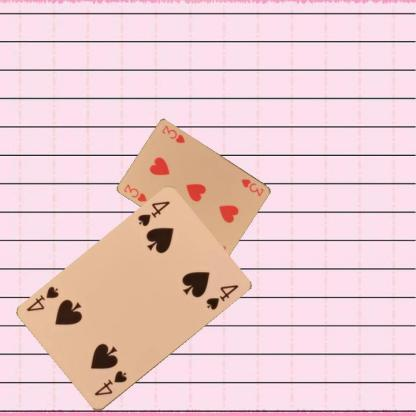3h: (239, 176, 265, 198), (122, 181, 148, 203)
4s: (134, 198, 172, 228), (92, 368, 128, 398)
